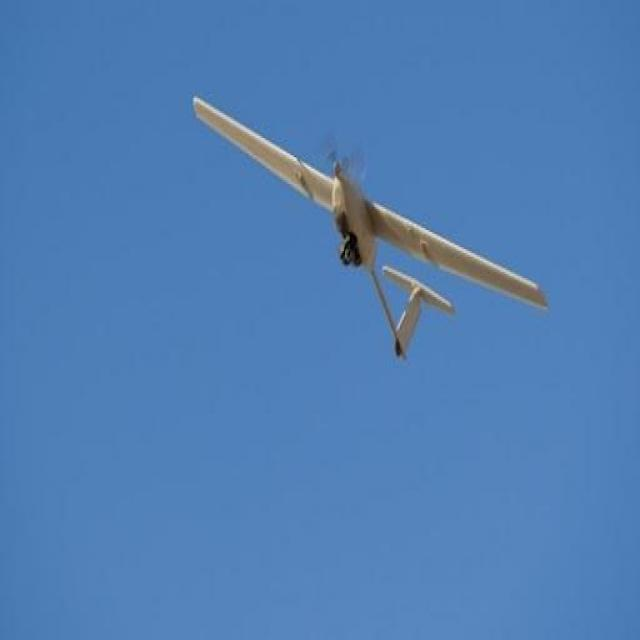iha: (183, 90, 550, 367)
